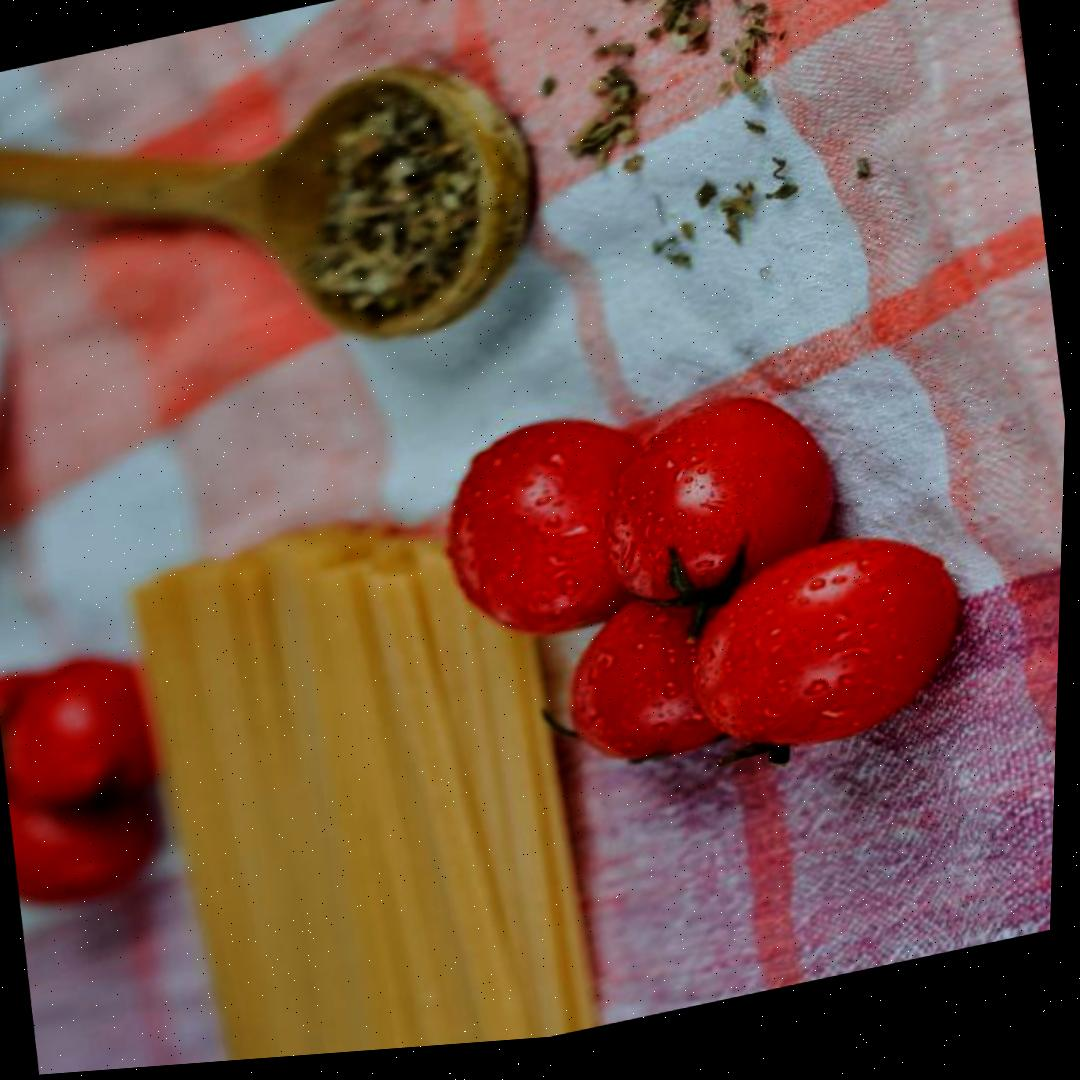matang: (677, 513, 978, 770), (584, 372, 849, 629), (426, 395, 675, 657)
